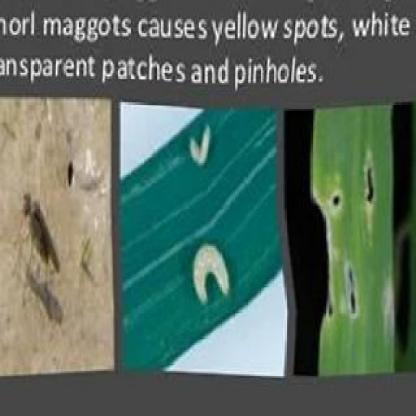whorl-maggot: (187, 240, 236, 309), (184, 122, 218, 172)
